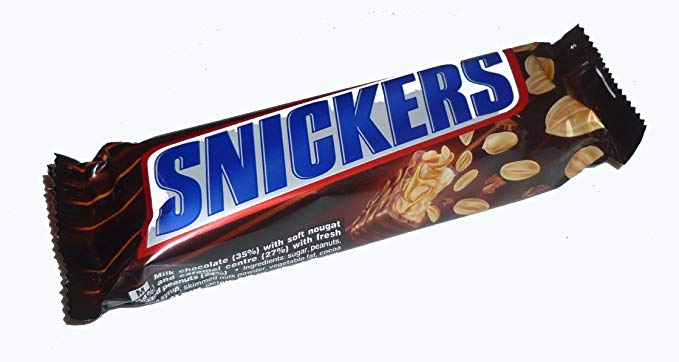snickers: (154, 46, 513, 231), (154, 46, 509, 231), (154, 50, 512, 231)
